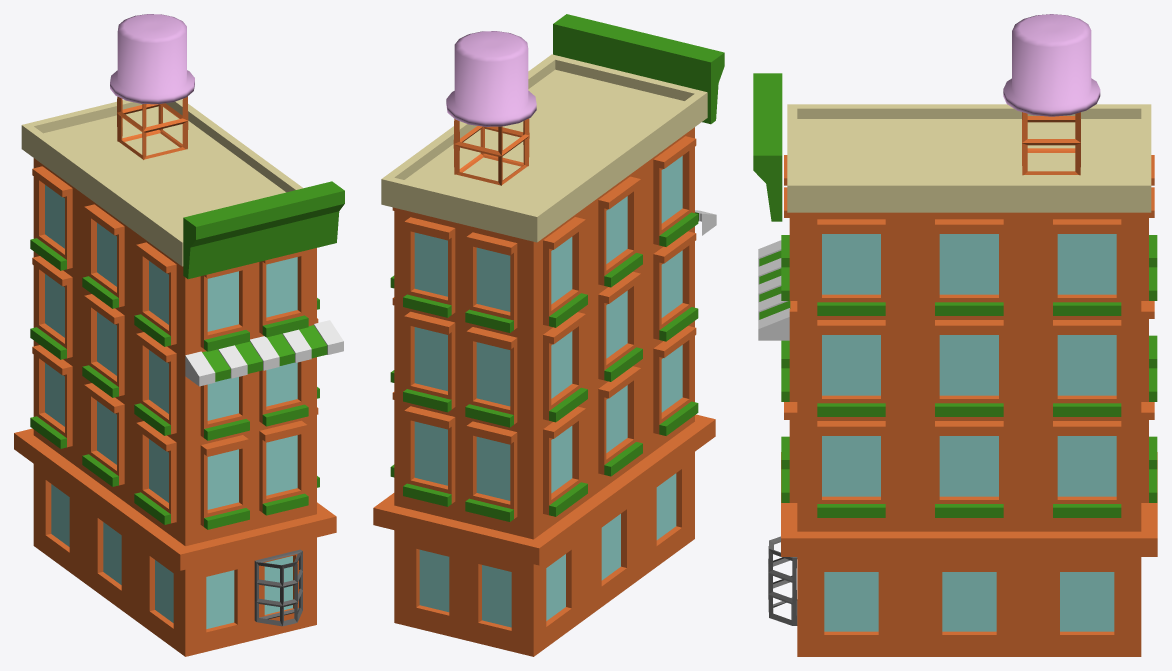
File: SceneComplex_Building_Small.fbx
3 views of the same model, side by side, from view 1: azimuth 30°, elevation 25°; view 2: azimuth 150°, elevation 25°; view 3: azimuth 270°, elevation 25° (orthographic). The views are drawn at different scales.
Visible parts, largest first — view 1: Cube.012; view 2: Cube.012; view 3: Cube.012.
Part boxes in pixels (bbox=[...]): Cube.012: bbox=[14, 14, 344, 656]; Cube.012: bbox=[373, 14, 724, 656]; Cube.012: bbox=[753, 14, 1157, 656].
Size of the model in its own units: 59.47 by 192 by 118.
